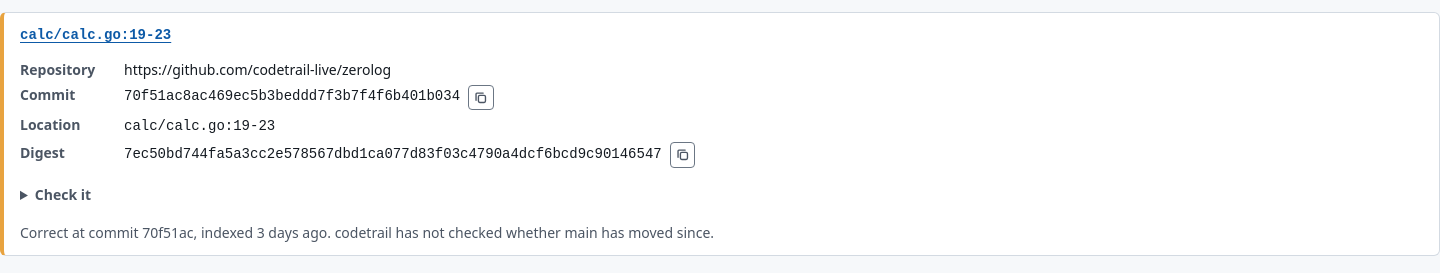
copying a citation, and where the check is folded › a browser with no clipboard says so rather than doing nothing
Click the button named "Copy the digest": x=682, y=155 [670,142,695,168]
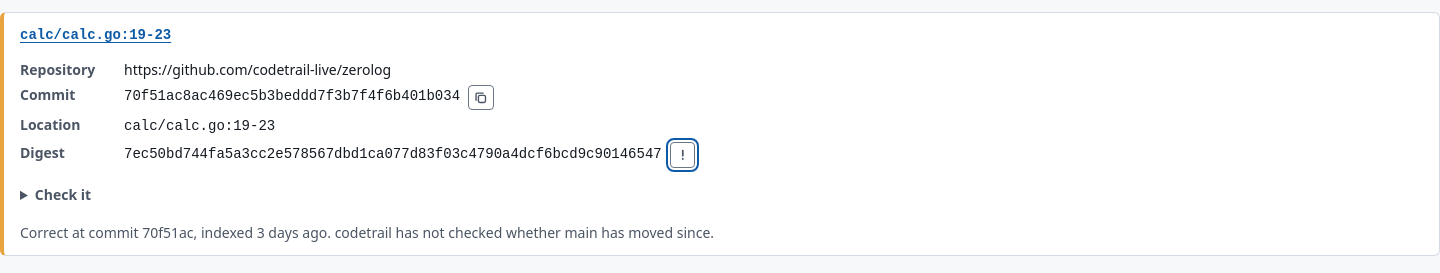
Expected: the button named "Could not copy the digest — this browser refused the clipboard" is shown, [670,142,695,168]
